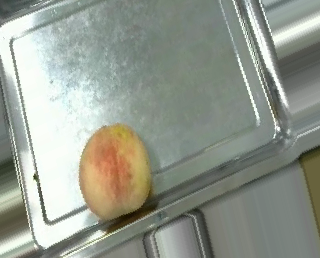Peach: (78, 122, 152, 219)
